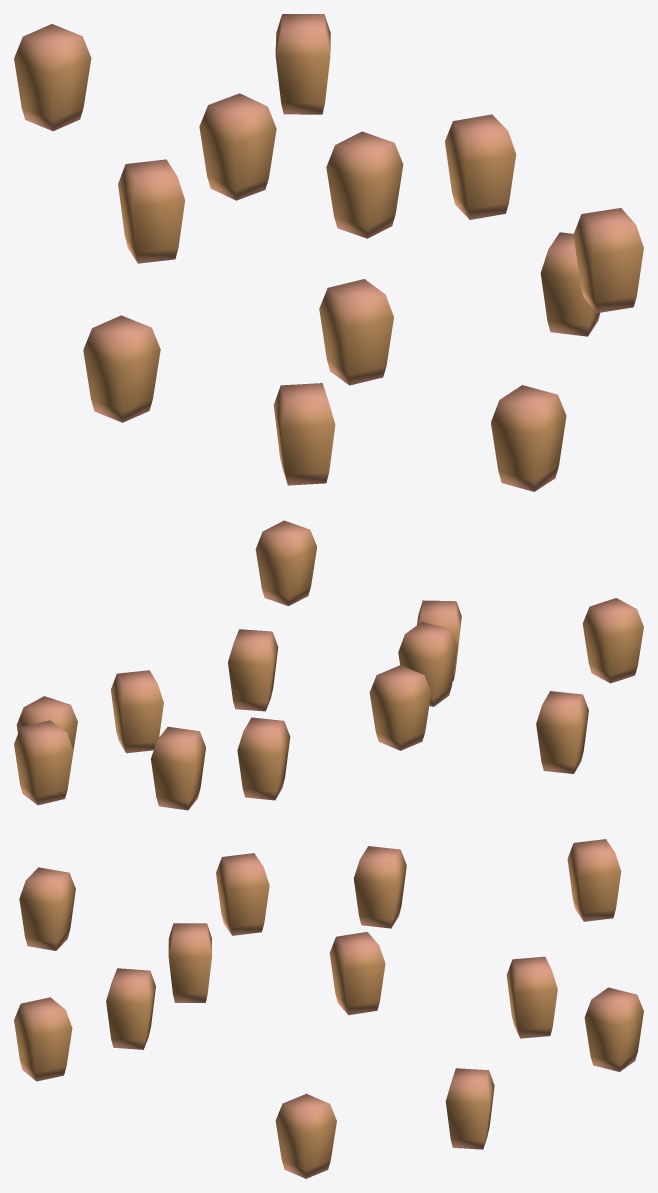
File: LanternRiteTestBloom.fbx
3 views of the same model, one above another, from view 1: azimuth 30°, elevation 25°; view 2: azimuth 150°, elevation 25°; view 3: azimuth 270°, elevation 25° (orthographic). The views are drawn at different scales.
Visible parts, largest first — view 1: Circle.002; view 2: Circle.002; view 3: Circle.002.
Part boxes in pixels (x1,y1,x2,y2): Circle.002: [14, 14, 643, 491]; Circle.002: [14, 520, 643, 810]; Circle.002: [14, 839, 643, 1178].
Size of the model in its own units: 322016 by 132381 by 397048.
